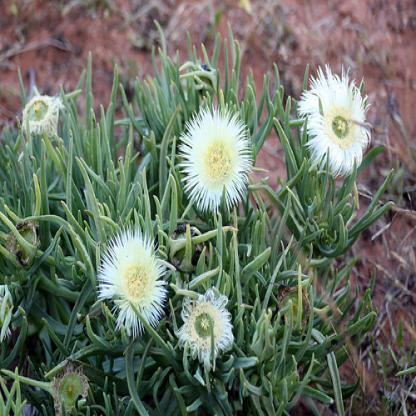ASTER: (15, 54, 381, 379)
